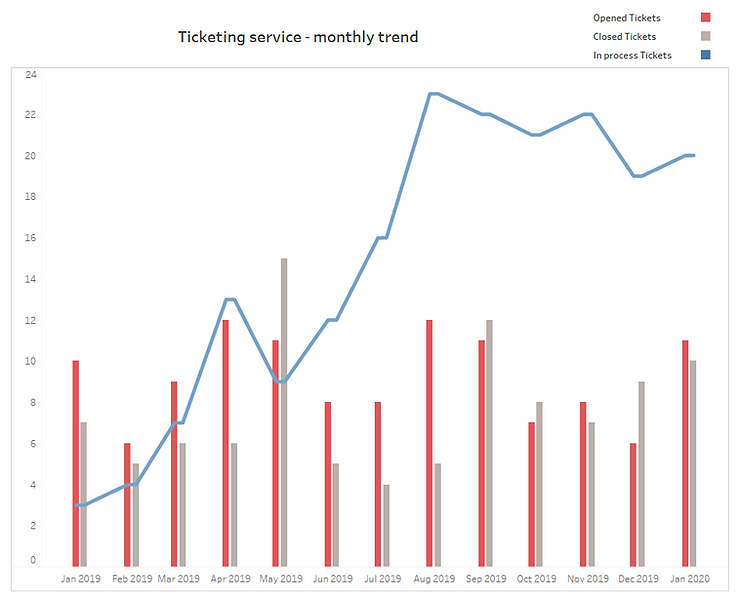OK_NoIssue: (15, 73, 725, 591)
